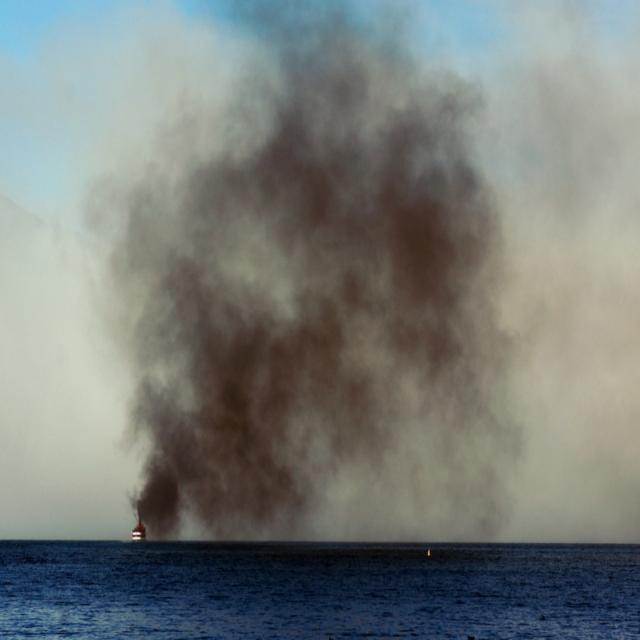Smoke: (41, 5, 640, 532)
